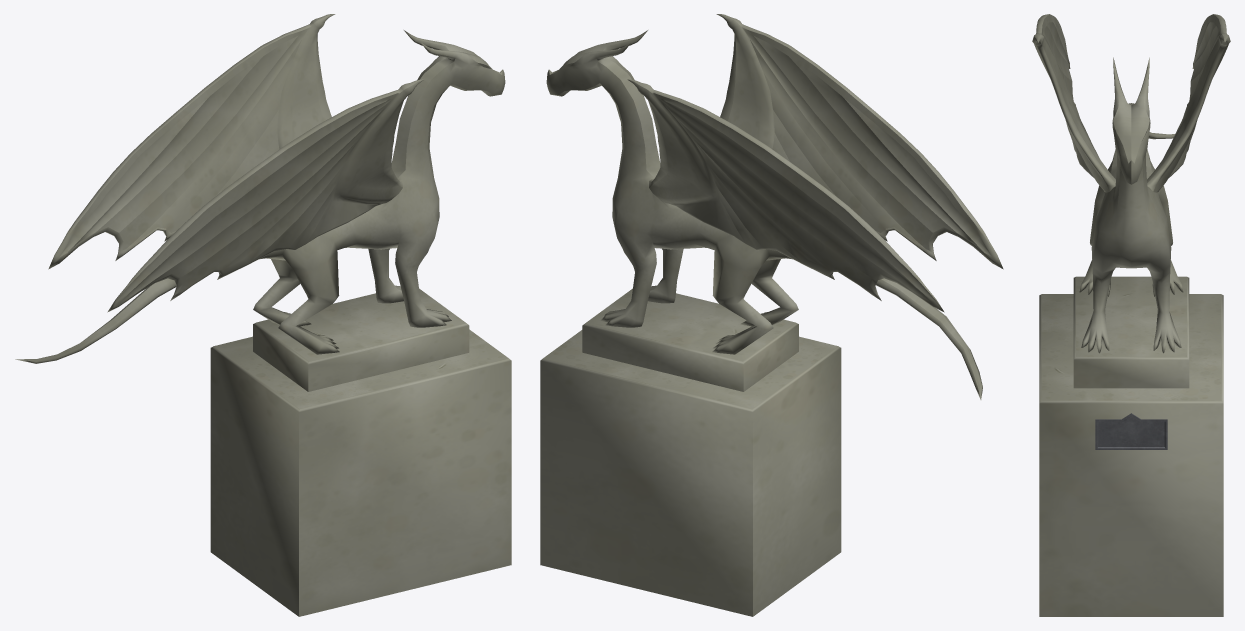
The model's file is statues.fbx.
3 renders of one model, left to right at view 1: azimuth 30°, elevation 25°; view 2: azimuth 150°, elevation 25°; view 3: azimuth 270°, elevation 25°, orthographic. The views are drawn at different scales.
Parts seen in each view (by area): view 1: base, dragon2.001; view 2: base, dragon2.001; view 3: base, dragon2.001, plaque.
Boxes of the visible parts, x1,y1,x2,y2 form: base: [210, 288, 511, 616]; dragon2.001: [15, 14, 505, 363]; base: [540, 288, 841, 616]; dragon2.001: [546, 14, 1003, 399]; base: [1039, 276, 1223, 616]; dragon2.001: [1032, 14, 1230, 353]; plaque: [1095, 413, 1167, 449].
Size of the model in its own units: 299 by 885 by 840.
2 materials, 2 textured.
